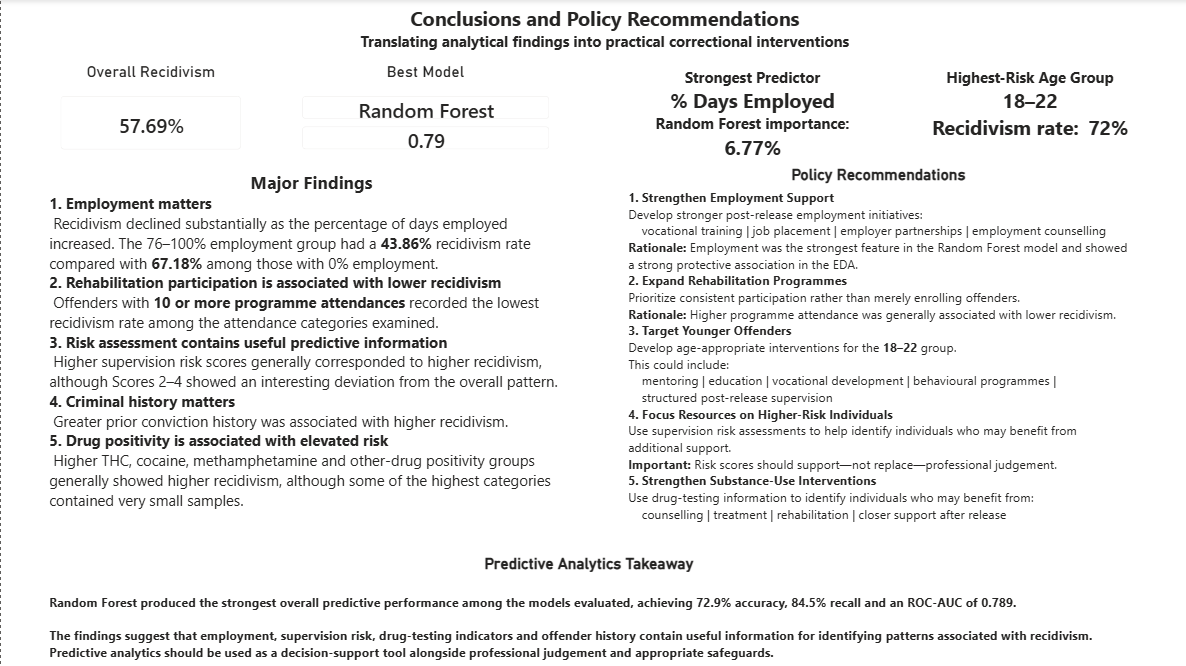

The page's visual inventory and layout, read from the dashboard file:
{"tool":"powerbi","page":{"name":"Conclusions & Policy Recommendations","canvas":[1280,720],"ordinal":3},"visuals":[{"type":"textbox","box":[319,0,665.5,79.3],"z":0},{"type":"cardVisual","title":"Overall Recidivism","fields":{"Data":["Sheet1.Recidivism Rate"]},"box":[47,68,229.9,111.7],"z":1000},{"type":"cardVisual","title":"Best Model","fields":{"Data":["Max(Model Table.Model)","Max(Model Table.ROC_AUC)"]},"box":[307.7,68,301.2,111.7],"z":2000},{"type":"textbox","box":[675.2,68,272,111.7],"z":3000},{"type":"textbox","box":[995.8,68,229.9,111.7],"z":4000},{"type":"textbox","box":[47,179.7,576.4,393.5],"z":5000},{"type":"textbox","title":"Policy Recommendations","box":[672,179.7,550.5,408],"z":6000},{"type":"textbox","title":"Predictive Analytics Takeaway","box":[47,599.1,1175.6,121.4],"z":7000}]}

Visuals, with their boxes in screenshot pixels (x1, y1, x2, y2), scaled from the page's 1280x720 canvas onto the 1186x666 screenshot:
textbox: x1=296, y1=0, x2=912, y2=73
"Overall Recidivism" cardVisual: x1=44, y1=63, x2=257, y2=166
"Best Model" cardVisual: x1=285, y1=63, x2=564, y2=166
textbox: x1=626, y1=63, x2=878, y2=166
textbox: x1=923, y1=63, x2=1136, y2=166
textbox: x1=44, y1=166, x2=578, y2=530
"Policy Recommendations" textbox: x1=623, y1=166, x2=1133, y2=544
"Predictive Analytics Takeaway" textbox: x1=44, y1=554, x2=1133, y2=665
